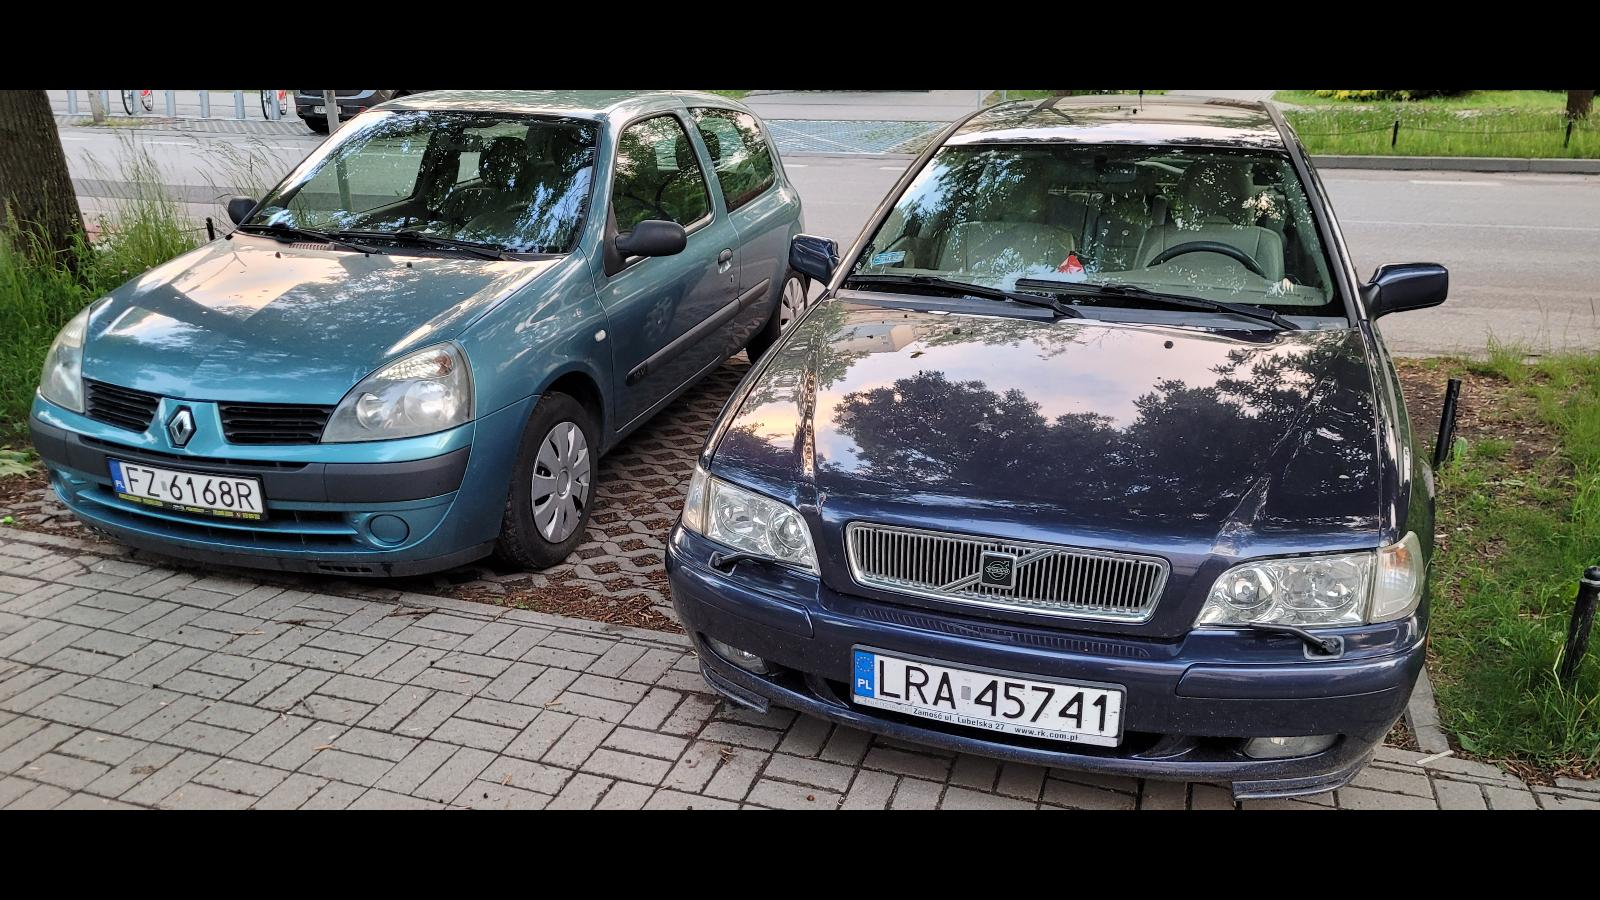plates: (851, 645, 1127, 747), (106, 458, 266, 520)
